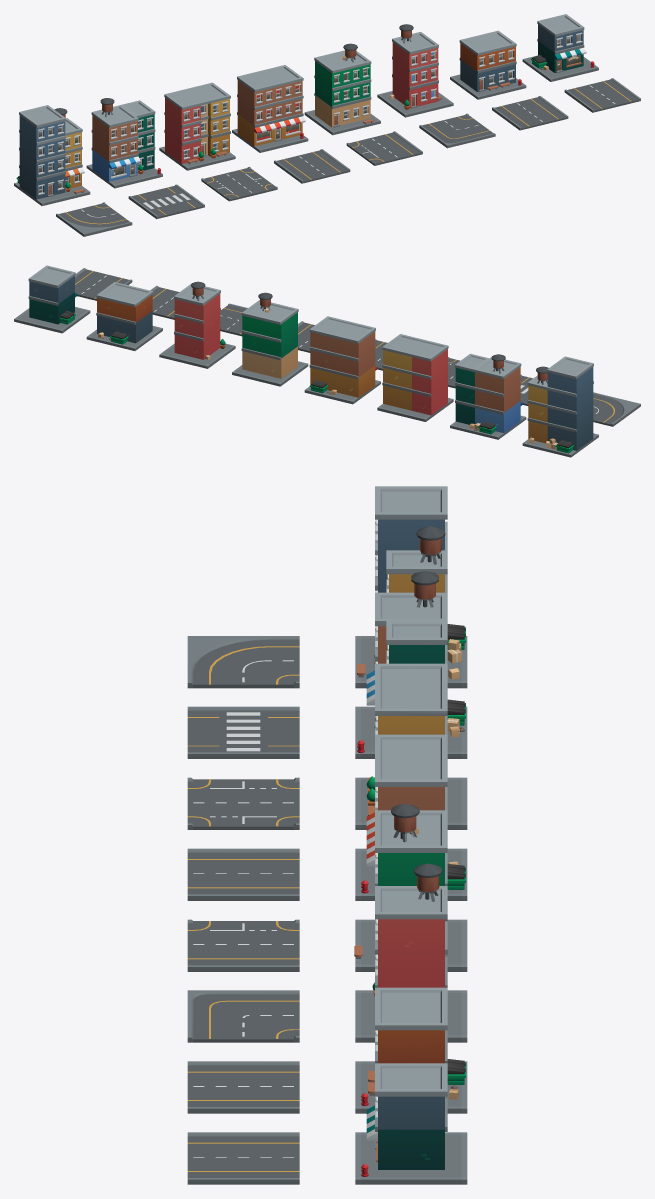
Rendered from default_city_tile_set.glb.
The picture shows the model from 3 angles, top to bottom: view 1: azimuth 30°, elevation 25°; view 2: azimuth 150°, elevation 25°; view 3: azimuth 270°, elevation 25°; orthographic projection. The views are drawn at different scales.
Visible parts, largest first — view 1: building_H, building_E, building_G, building_F, building_D, building_C, building_B, building_A, road_straight, road_straight_crossing, road_cap, road_single (+4 smaller); view 2: building_H, building_E, building_G, building_F, building_D, building_C, building_B, building_A, road_corner_curved, road_single, road_cap, road_corner (+1 smaller); view 3: building_A, building_C, building_H, building_G, building_E, building_B, building_D, building_F, road_corner, road_cap, road_single, road_corner_curved (+4 smaller).
Boxes of the visible parts, left/top/right/bottom form: building_H: left=14, top=105, right=90, bottom=205; building_E: left=232, top=65, right=308, bottom=152; building_G: left=86, top=98, right=162, bottom=188; building_F: left=159, top=82, right=235, bottom=170; building_D: left=304, top=43, right=380, bottom=135; building_C: left=377, top=24, right=453, bottom=117; building_B: left=450, top=30, right=526, bottom=99; building_A: left=522, top=14, right=598, bottom=81; road_straight: left=274, top=149, right=350, bottom=183; road_straight_crossing: left=128, top=184, right=204, bottom=219; road_cap: left=492, top=96, right=568, bottom=130; road_single: left=564, top=78, right=640, bottom=112; building_H: left=522, top=356, right=598, bottom=457; building_E: left=304, top=316, right=380, bottom=404; building_G: left=450, top=353, right=526, bottom=439; building_F: left=377, top=334, right=453, bottom=421; building_D: left=232, top=292, right=308, bottom=386; building_C: left=159, top=281, right=235, bottom=368; building_B: left=86, top=282, right=162, bottom=350; building_A: left=14, top=265, right=90, bottom=333; road_corner_curved: left=593, top=392, right=640, bottom=426; road_single: left=75, top=268, right=132, bottom=300; road_cap: left=150, top=285, right=179, bottom=319; road_corner: left=220, top=303, right=247, bottom=336; building_A: left=355, top=1063, right=467, bottom=1184; building_C: left=355, top=863, right=467, bottom=1042; building_H: left=355, top=486, right=467, bottom=688; building_G: left=355, top=571, right=467, bottom=758; building_E: left=355, top=734, right=467, bottom=900; building_B: left=355, top=987, right=467, bottom=1113; building_D: left=354, top=804, right=467, bottom=971; building_F: left=355, top=663, right=467, bottom=829; road_corner: left=187, top=990, right=299, bottom=1042; road_cap: left=187, top=1061, right=299, bottom=1113; road_single: left=187, top=1132, right=299, bottom=1184; road_corner_curved: left=187, top=636, right=299, bottom=688.
Size of the model in its own units: 23 by 3.05 by 5.
Materials: 1 (1 with a texture image).
